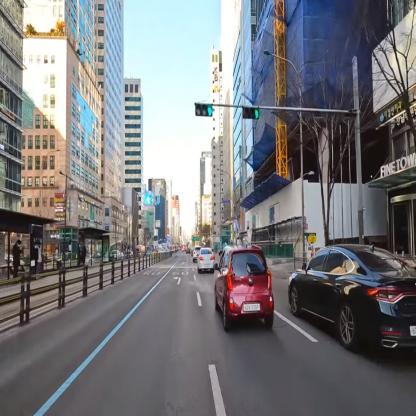Green: (194, 102, 213, 118), (243, 106, 260, 119)
